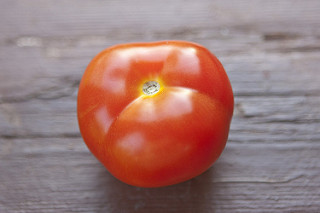tomato: (78, 43, 235, 184)
